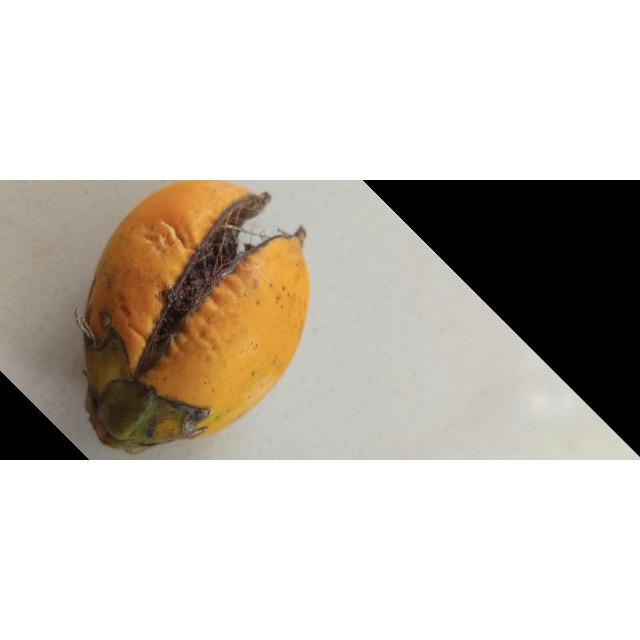damaged: (81, 180, 312, 454)
